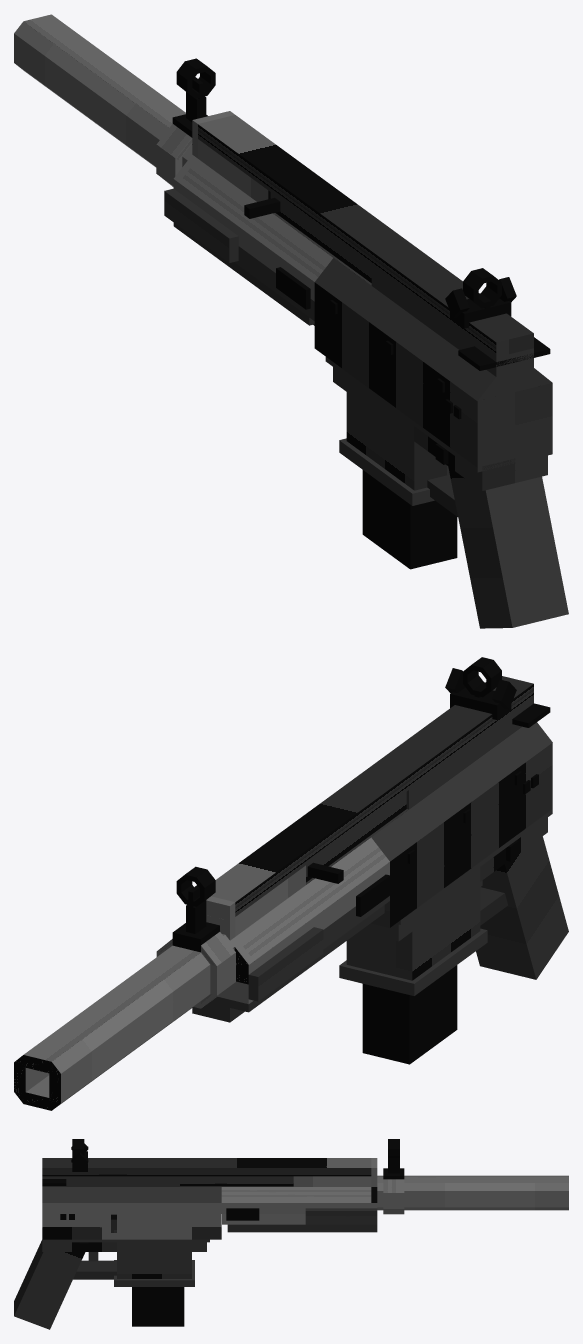
The model's file is mteg_scar_h.glb.
3 renders of one model, top to bottom at view 1: azimuth 30°, elevation 25°; view 2: azimuth 150°, elevation 25°; view 3: azimuth 270°, elevation 25°, orthographic. The views are drawn at different scales.
Parts seen in each view (by area): view 1: Gun; view 2: Gun; view 3: Gun.
Boxes of the visible parts, bbox=[...] form: Gun: bbox=[14, 14, 568, 628]; Gun: bbox=[14, 657, 568, 1110]; Gun: bbox=[14, 1139, 568, 1329].
Bounding box in the file's own units: 0.1375 × 0.4185 × 1.16.
1 material, 1 textured.
